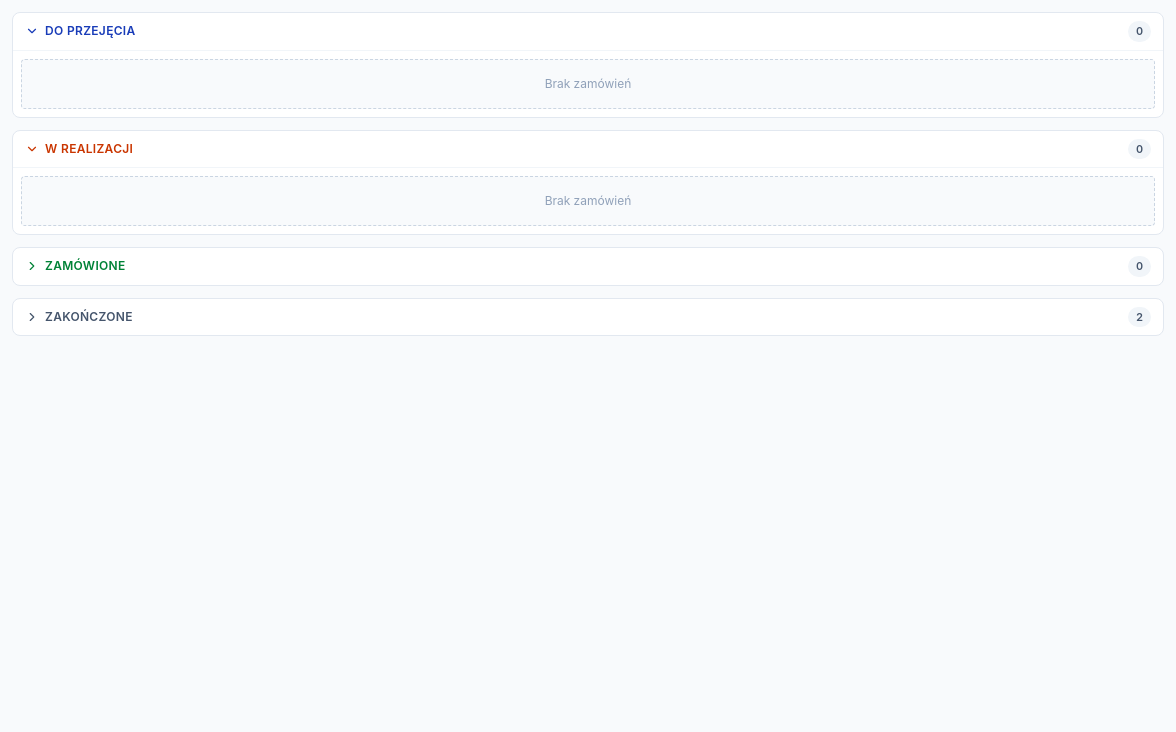
it: close-without-receipt (D5) — queue helpers and chip › the card shows 'Zamknięte bez przyjęcia' only without a receipt
Click the button "Zakończone 2" at {"x": 89, "y": 316}, box [13,298,1163,335]
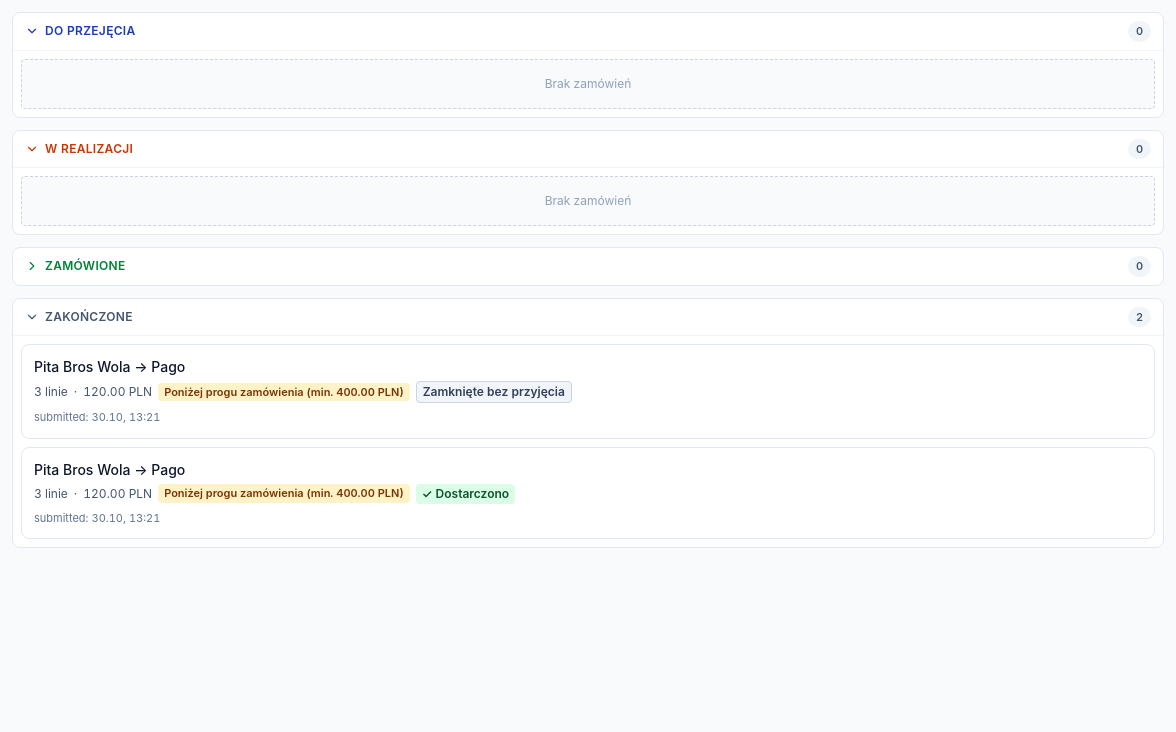
expect the number of elements with test id "closed-without-receipt" is 1: met, box [416,381,572,403]
expect the text "✓ Dostarczono" is shown: met, box [416,484,515,504]
